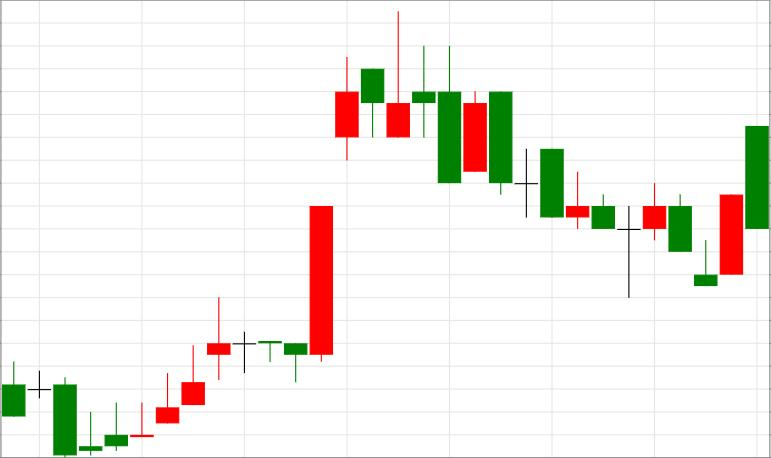morning_star_rise: (490, 91, 743, 298)
